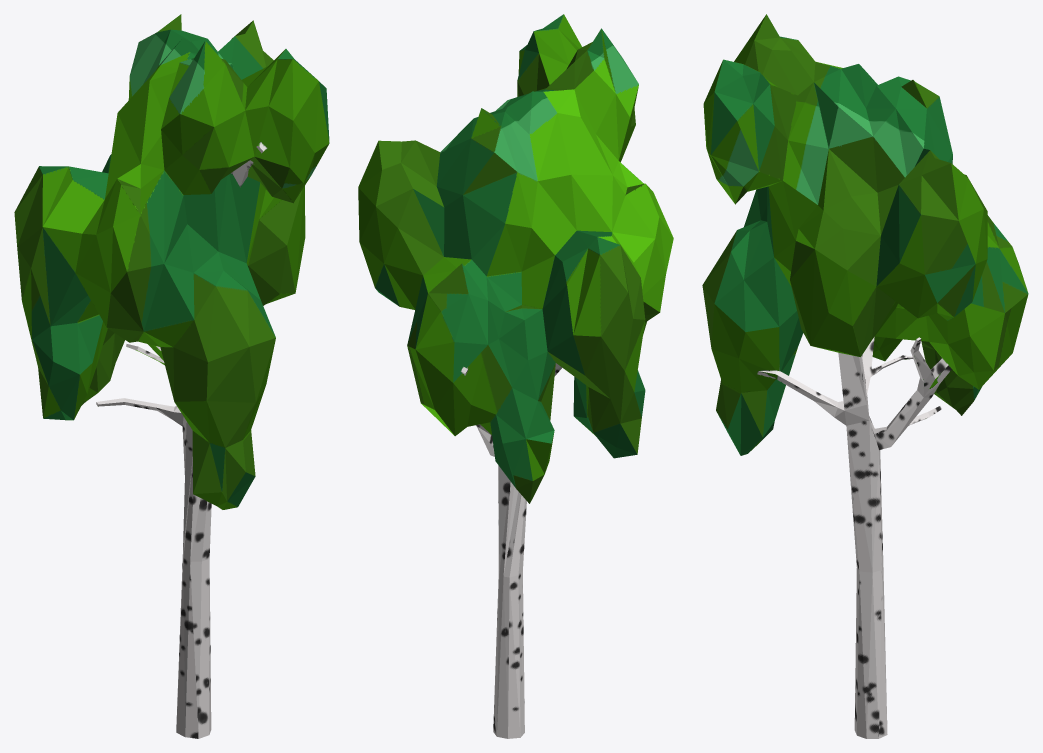
File: _5_tree_Sphere.002.obj
3 views of the same model, side by side, from view 1: azimuth 30°, elevation 25°; view 2: azimuth 150°, elevation 25°; view 3: azimuth 270°, elevation 25° (orthographic). The views are drawn at different scales.
Parts seen in each view (by area): view 1: _5_tree_Sphere.002; view 2: _5_tree_Sphere.002; view 3: _5_tree_Sphere.002.
Part boxes in pixels (box(x1,y1,x2,y2)): _5_tree_Sphere.002: box(14, 14, 329, 738); _5_tree_Sphere.002: box(358, 14, 673, 738); _5_tree_Sphere.002: box(702, 14, 1028, 738).
Size of the model in its own units: 0.8389 by 2.13 by 0.9014.
Materials: 1 (1 with a texture image).
